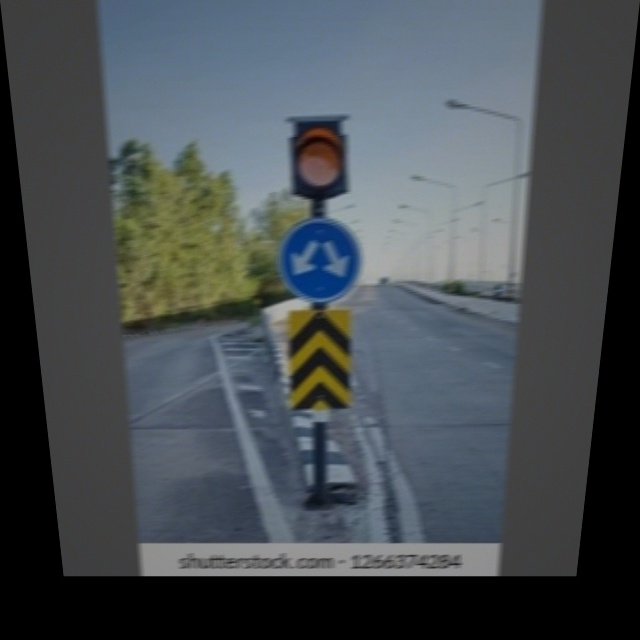Pass_Either_Side: (277, 216, 365, 302)
